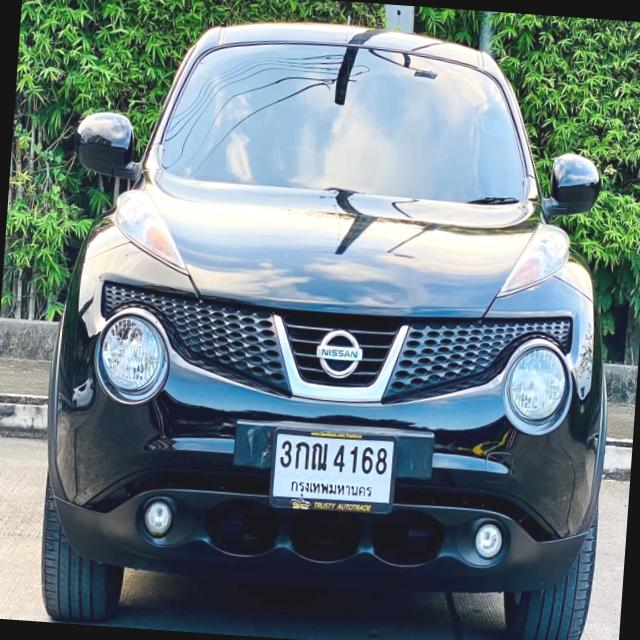license_plate: (263, 422, 400, 520)
